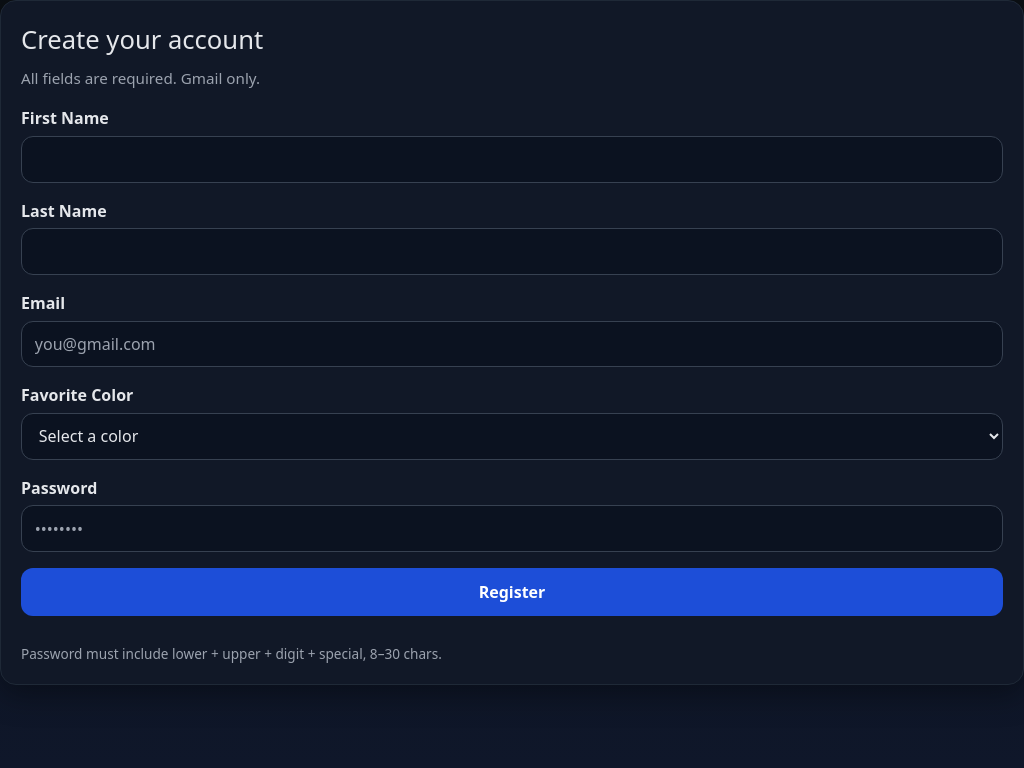
Scenario: RegistrationForm › rejects non-Gmail emails
Type "A" into the field labelled "First Name" at [512, 159], box 21,136 -> 1003,183
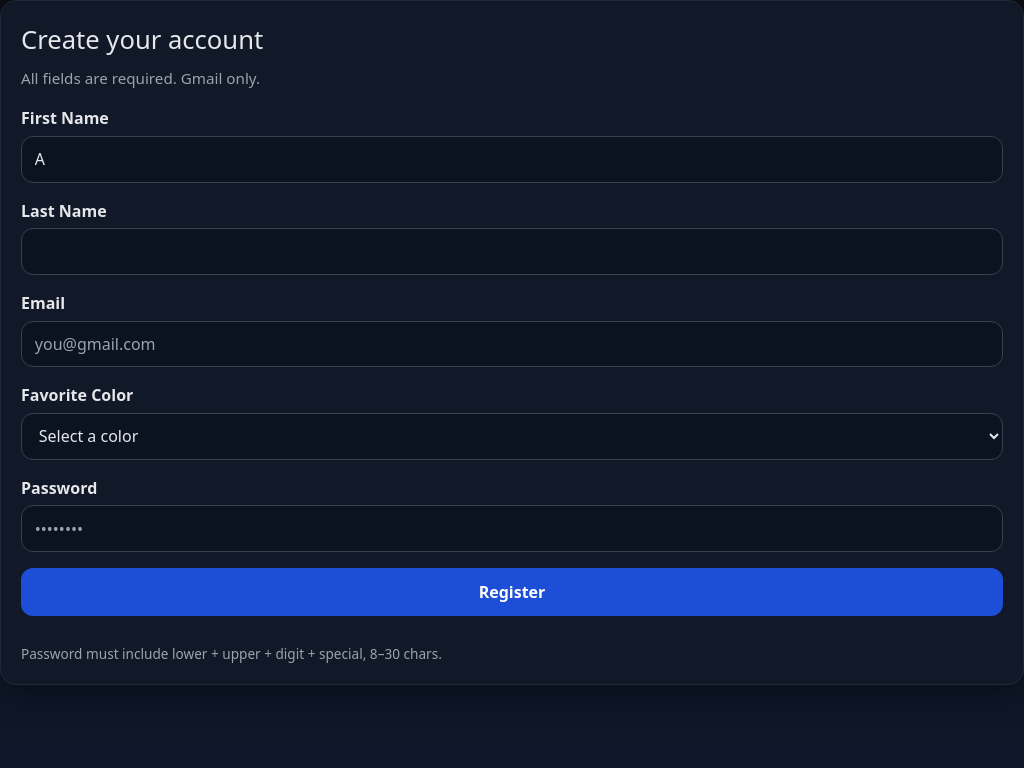
Type "B" into the field labelled "Last Name" at [512, 252], box 21,228 -> 1003,275
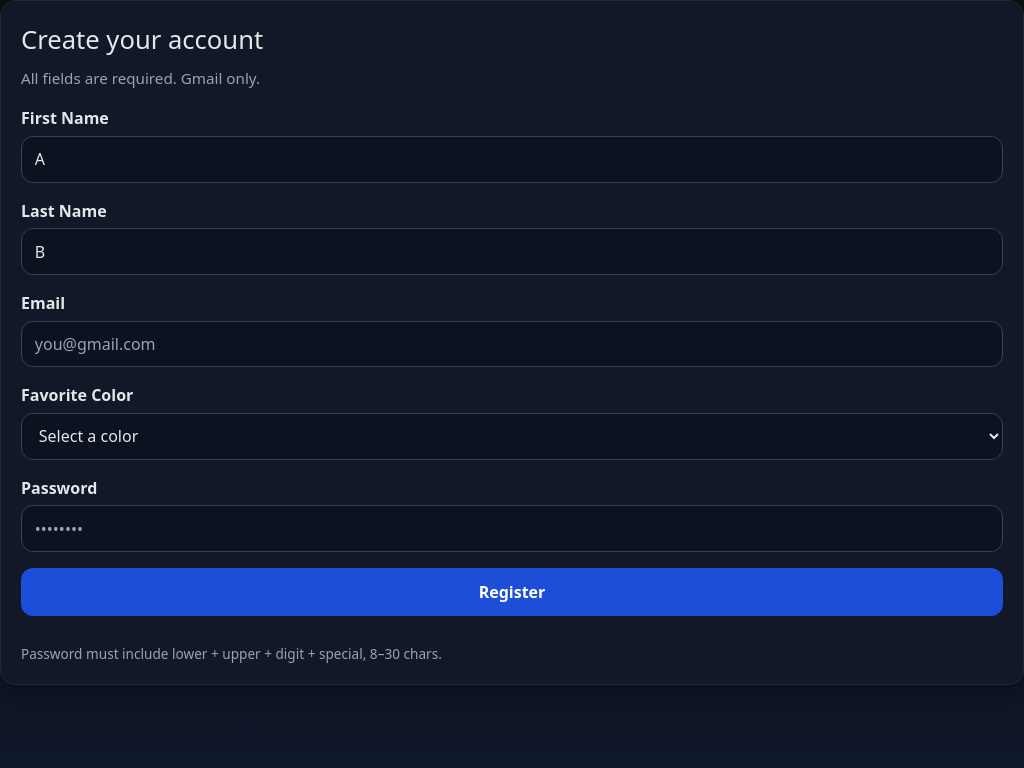
Type "user@yahoo.com" into the field labelled "Email" at [512, 344], box 21,320 -> 1003,367
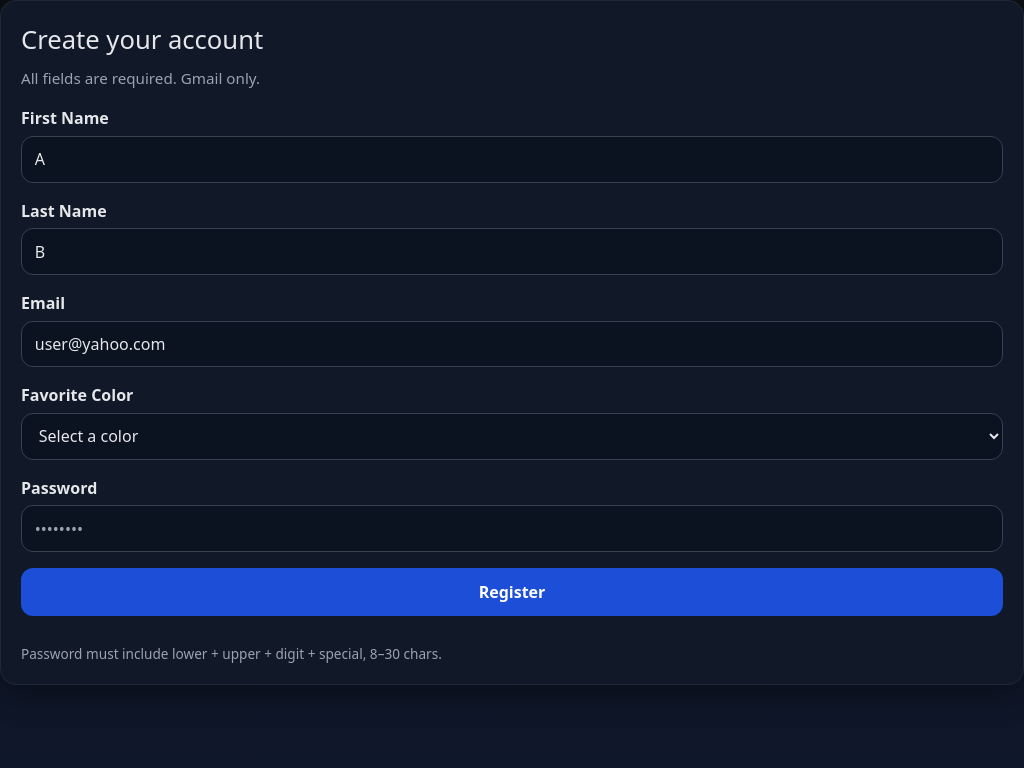
Type "Abcdef1!" into the password field labelled "Password" at [512, 529], box 21,505 -> 1003,552
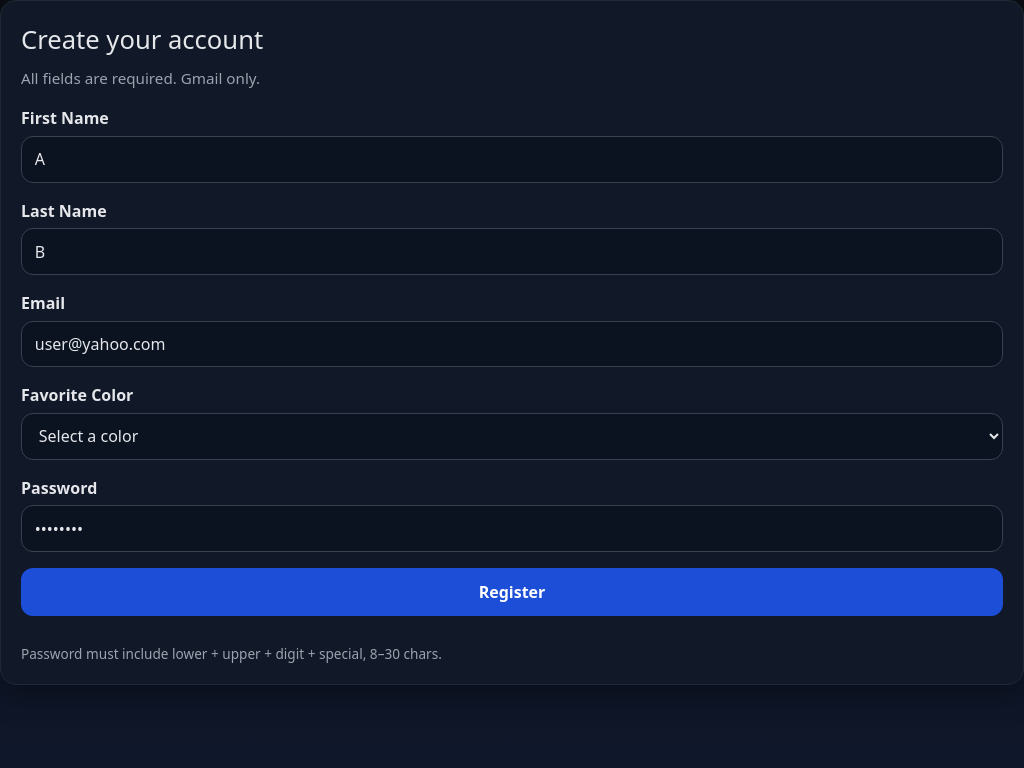
Click the button "Register" at [512, 592], box 21,568 -> 1003,616
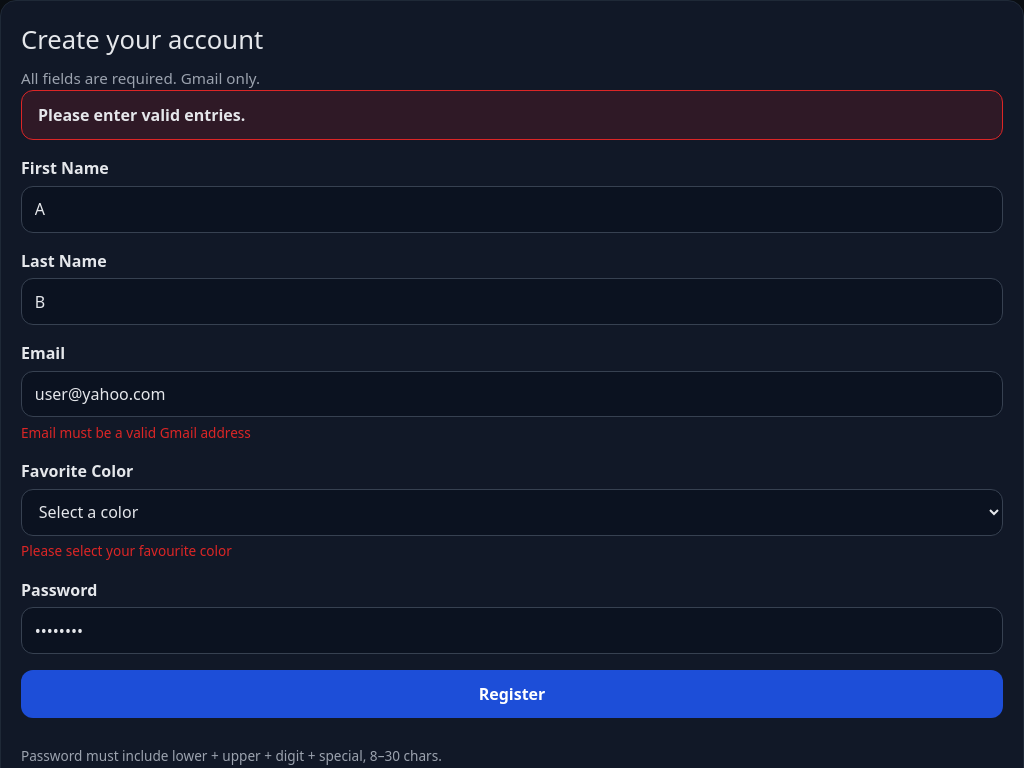
Now the text "Email must be a valid Gmail address" is shown, box 21,423 -> 251,442
